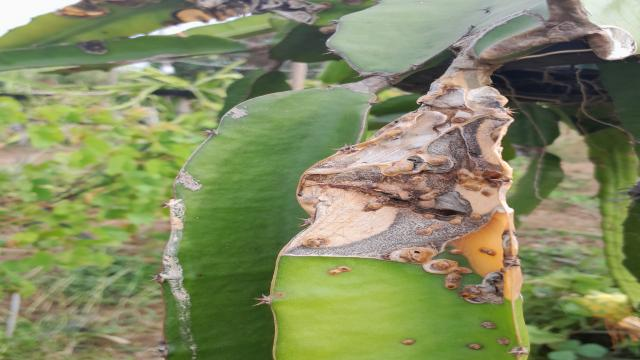stemcanker: (386, 310, 517, 357), (316, 263, 360, 283), (275, 285, 294, 302)
